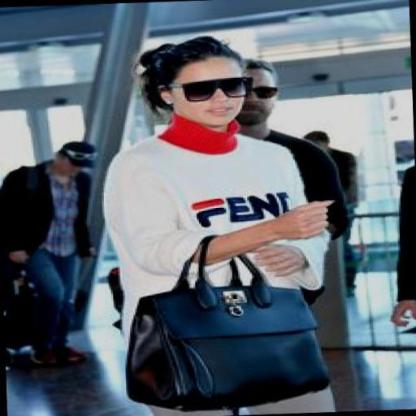bag: (123, 233, 340, 416)
person: (98, 34, 342, 416)
